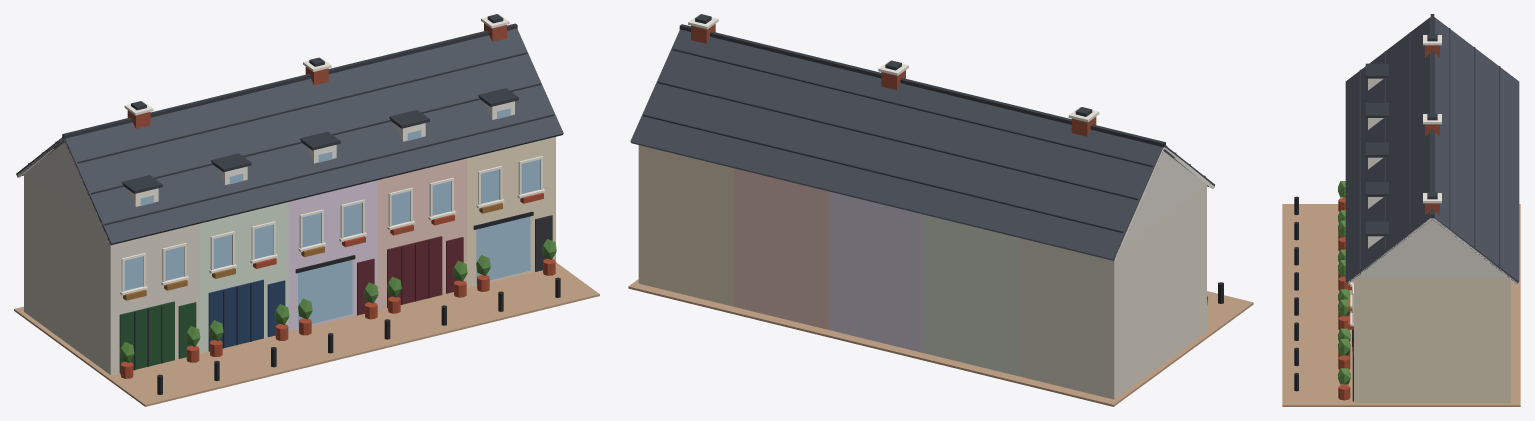
File: Konut_ref_mews_Hafif.fbx
3 renders of one model, left to right at view 1: azimuth 30°, elevation 25°; view 2: azimuth 150°, elevation 25°; view 3: azimuth 270°, elevation 25°, orthographic. The views are drawn at different scales.
Visible parts, largest first — view 1: Konut_ref_mews_Hafif; view 2: Konut_ref_mews_Hafif; view 3: Konut_ref_mews_Hafif.
Part boxes in pixels (bbox=[...]): Konut_ref_mews_Hafif: bbox=[14, 14, 599, 406]; Konut_ref_mews_Hafif: bbox=[628, 14, 1253, 406]; Konut_ref_mews_Hafif: bbox=[1282, 14, 1520, 406].
Size of the model in its own units: 20 by 9.4 by 10.
